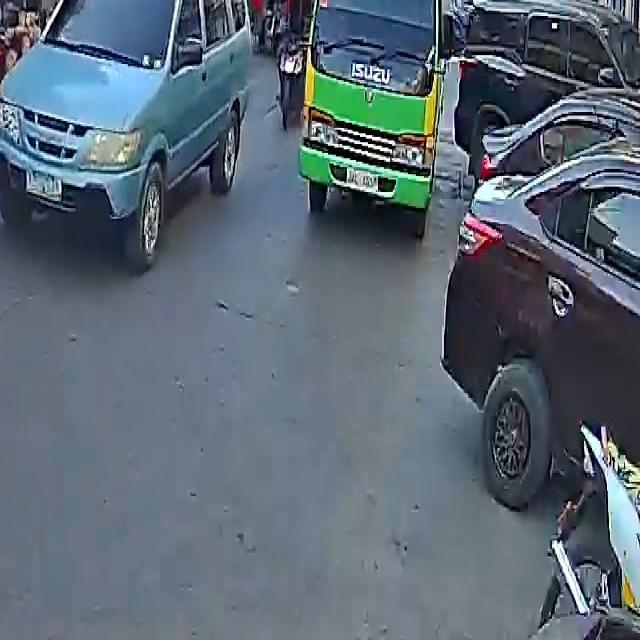car: (444, 151, 640, 514), (0, 0, 259, 268), (450, 0, 640, 176)
